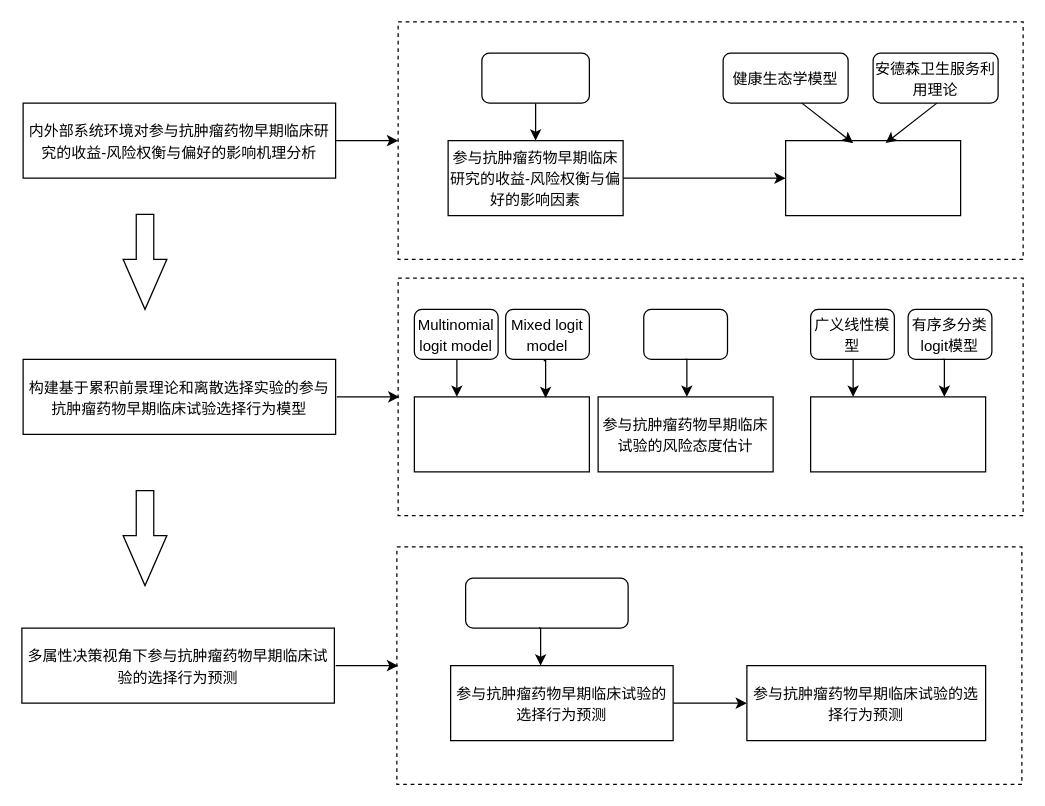
This 1045x806 diagram has some shape labels left out. The shapes that lost their labels are listed below. From the top down, each one's centre as x and y in pixels, then its label:
At point 535,77: "文献综述和计量分析".
At point 872,177: "参与抗肿瘤药物早期临床研究的收益-风险权衡与偏好的影响因素作用机制".
At point 685,333: "遗传算法".
At point 501,434: "参与抗肿瘤药物早期临床研究的决策偏好研究".
At point 897,434: "参与早期临床试验心理行为的参照点变更规律".
At point 546,602: "混合多属性决策方法".
